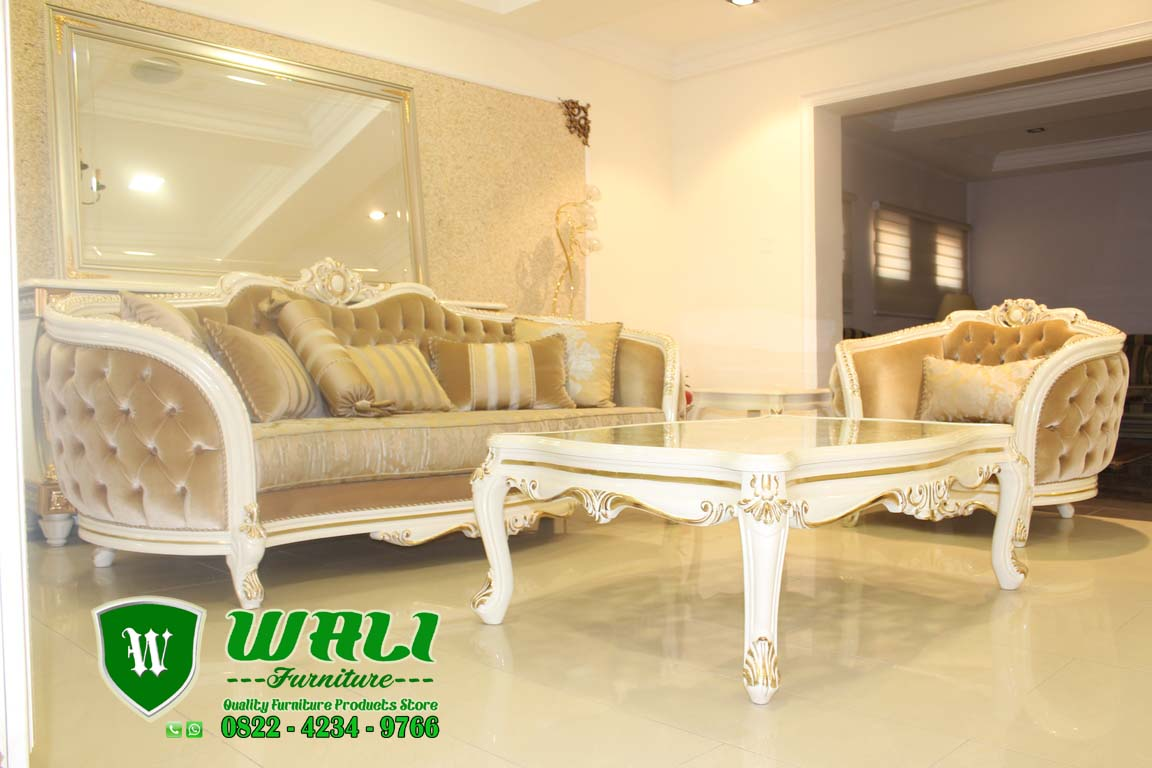Carving Chair: (45, 270, 678, 600)
Carving Table: (468, 413, 1042, 696)
